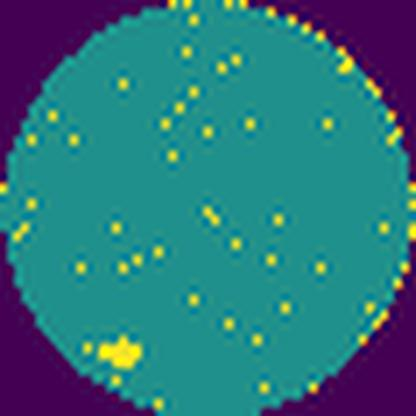Loc: (99, 336, 144, 367)
